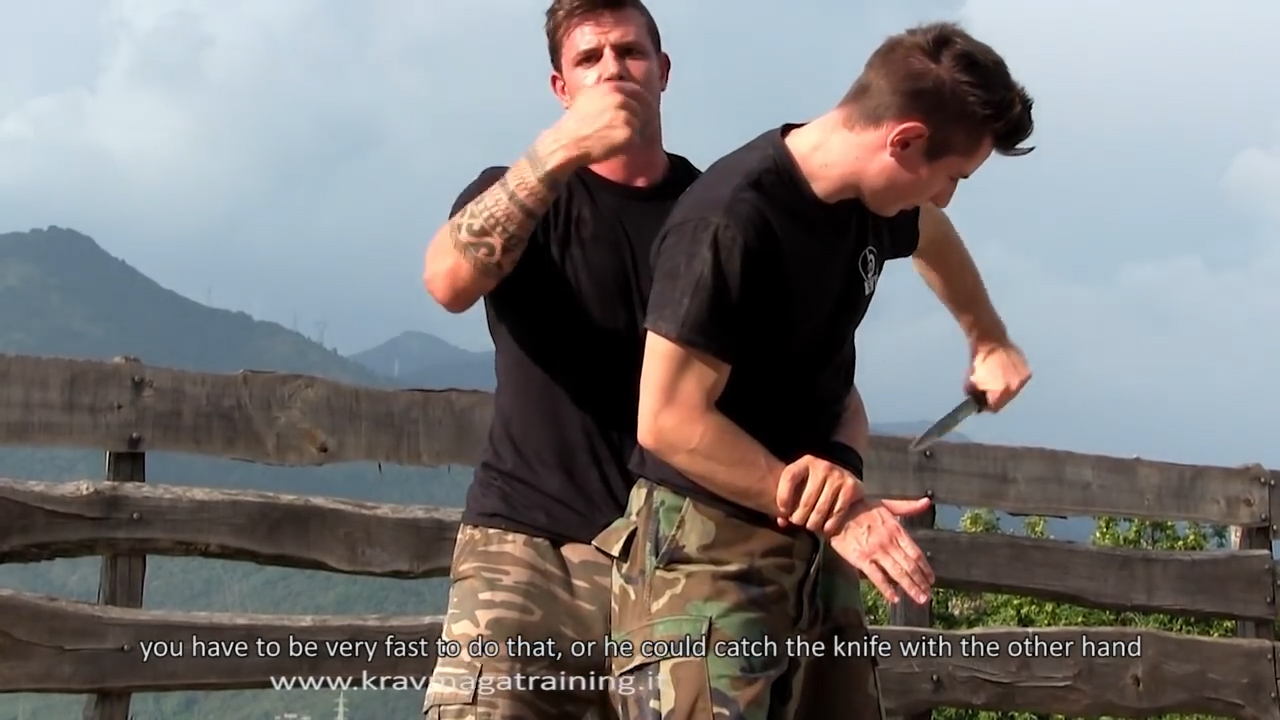knife: (899, 350, 1043, 461)
